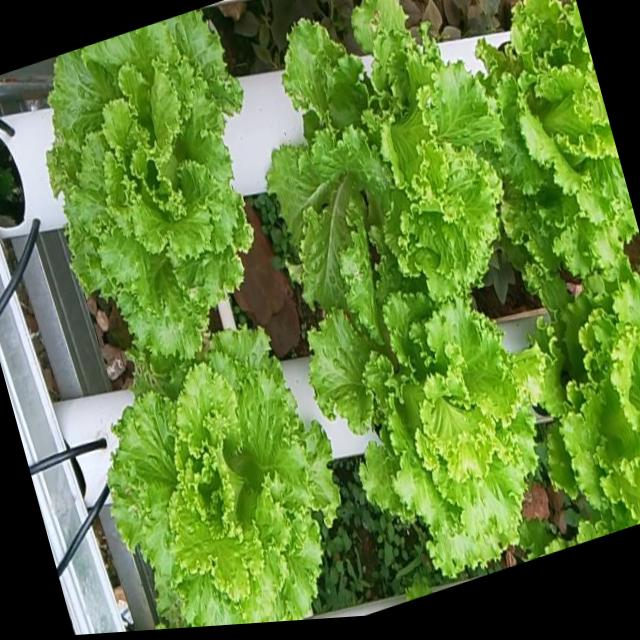Mature: (50, 9, 260, 384), (272, 0, 519, 314), (315, 273, 554, 583), (114, 335, 350, 629), (485, 0, 640, 273), (550, 254, 640, 530)
